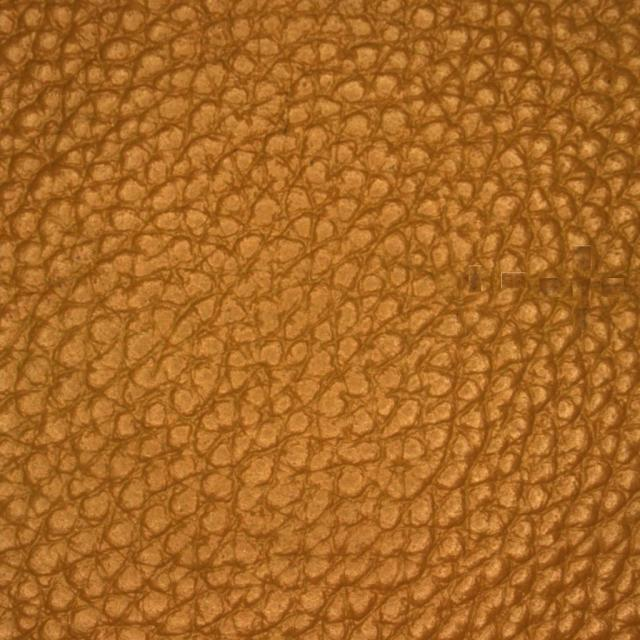Healed Injury: (438, 225, 629, 358)
